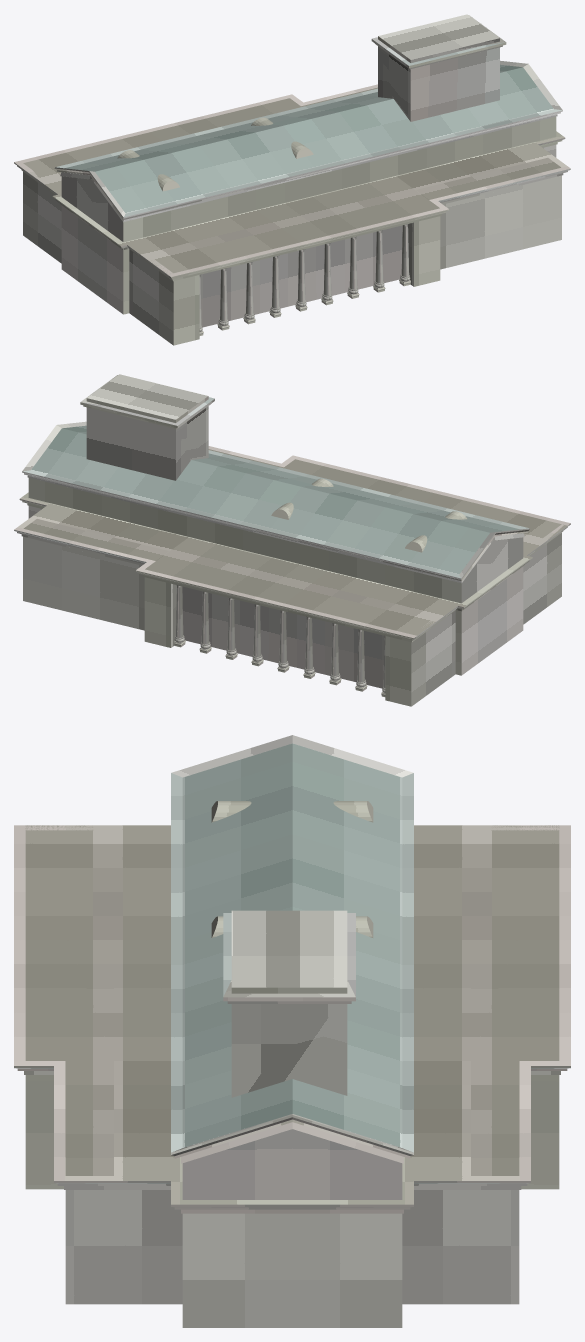
File: drm_hc.glb
The picture shows the model from 3 angles, top to bottom: view 1: azimuth 30°, elevation 25°; view 2: azimuth 150°, elevation 25°; view 3: azimuth 270°, elevation 25°; orthographic projection. The views are drawn at different scales.
Parts seen in each view (by area): view 1: drm; view 2: drm; view 3: drm.
Part boxes in pixels (bbox=[...]): drm: bbox=[14, 14, 570, 345]; drm: bbox=[14, 374, 570, 706]; drm: bbox=[14, 735, 570, 1327].
Size of the model in its own units: 67.29 by 24.76 by 41.21.
Materials: 2 (2 with a texture image).
